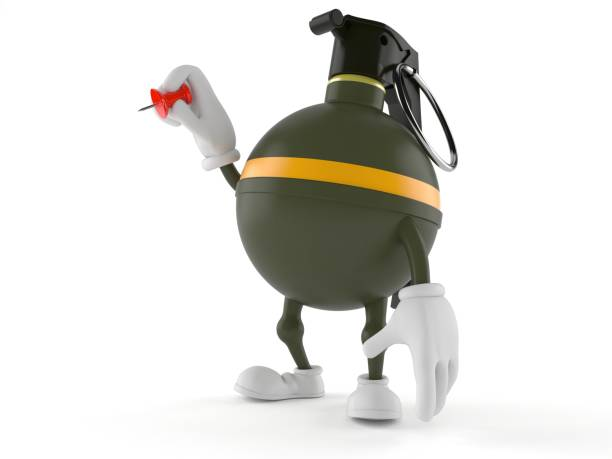e1: (234, 5, 464, 304)
